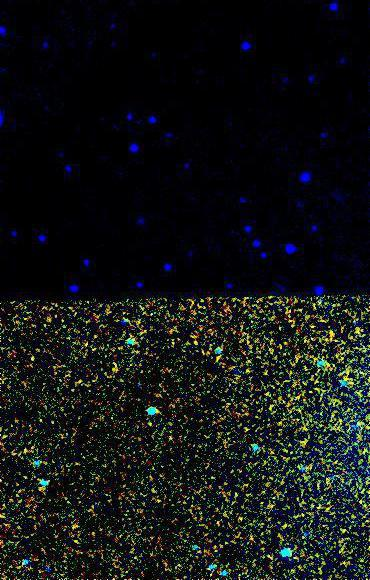star: (57, 517, 87, 547)
